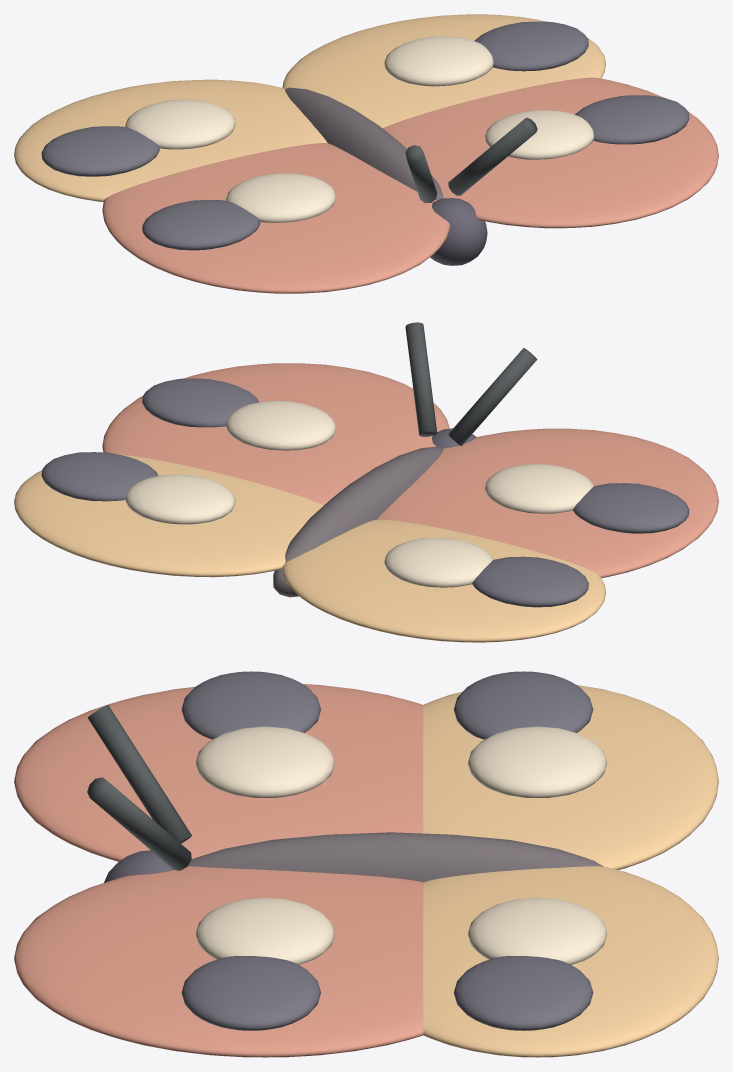
File: butterfly-peacock.glb
3 views of the same model, one above another, from view 1: azimuth 30°, elevation 25°; view 2: azimuth 150°, elevation 25°; view 3: azimuth 270°, elevation 25° (orthographic). The views are drawn at different scales.
Parts seen in each view (by area): view 1: material_cb6047, material_f1a85d, material_302e38, material_f2d5a9, material_342d31, material_191c1d, material_26232d; view 2: material_cb6047, material_f1a85d, material_302e38, material_f2d5a9, material_342d31, material_191c1d; view 3: material_cb6047, material_f1a85d, material_302e38, material_f2d5a9, material_342d31, material_191c1d, material_26232d.
Part boxes in pixels (bbox=[...]): material_cb6047: bbox=[102, 77, 718, 293]; material_f1a85d: bbox=[14, 14, 605, 202]; material_302e38: bbox=[41, 21, 689, 250]; material_f2d5a9: bbox=[125, 36, 593, 222]; material_342d31: bbox=[285, 87, 443, 200]; material_191c1d: bbox=[405, 117, 537, 203]; material_26232d: bbox=[430, 198, 487, 265]; material_cb6047: bbox=[102, 363, 718, 577]; material_f1a85d: bbox=[14, 454, 605, 642]; material_302e38: bbox=[41, 378, 689, 607]; material_f2d5a9: bbox=[125, 401, 593, 587]; material_342d31: bbox=[273, 446, 443, 597]; material_191c1d: bbox=[405, 322, 537, 446]; material_cb6047: bbox=[14, 684, 423, 1057]; material_f1a85d: bbox=[423, 685, 718, 1057]; material_302e38: bbox=[181, 671, 593, 1030]; material_f2d5a9: bbox=[195, 726, 607, 964]; material_342d31: bbox=[188, 832, 603, 882]; material_191c1d: bbox=[87, 705, 191, 870]; material_26232d: bbox=[104, 850, 173, 882].
Bounding box in the file's own units: 1.26 × 0.3175 × 1.01.
